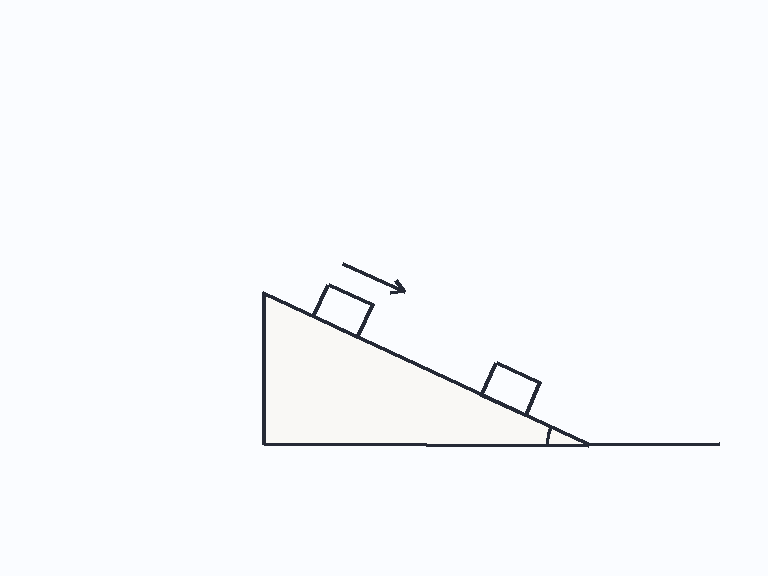block: (310, 282, 374, 339), (479, 360, 542, 417)
ramp: (261, 291, 589, 446)
